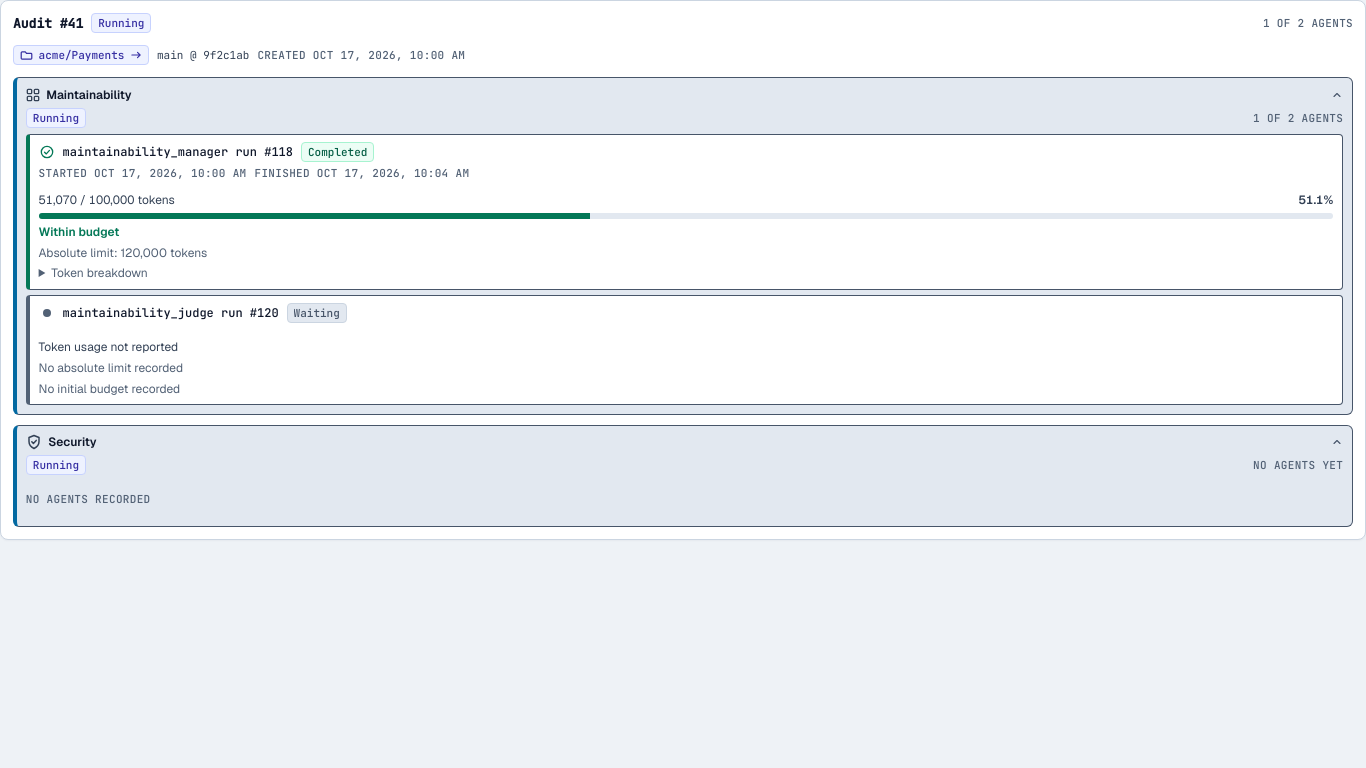
Scenario: AuditStatusView › uses the previous agent menu's budget bar and expandable token breakdown
Expected: the text "51,070 / 100,000 tokens" is shown, [39,192,175,208]
Expected: the text "51.1%" is shown, [1298,192,1333,208]
Click the heading "Token breakdown" at [100, 273], box [51,265,148,281]
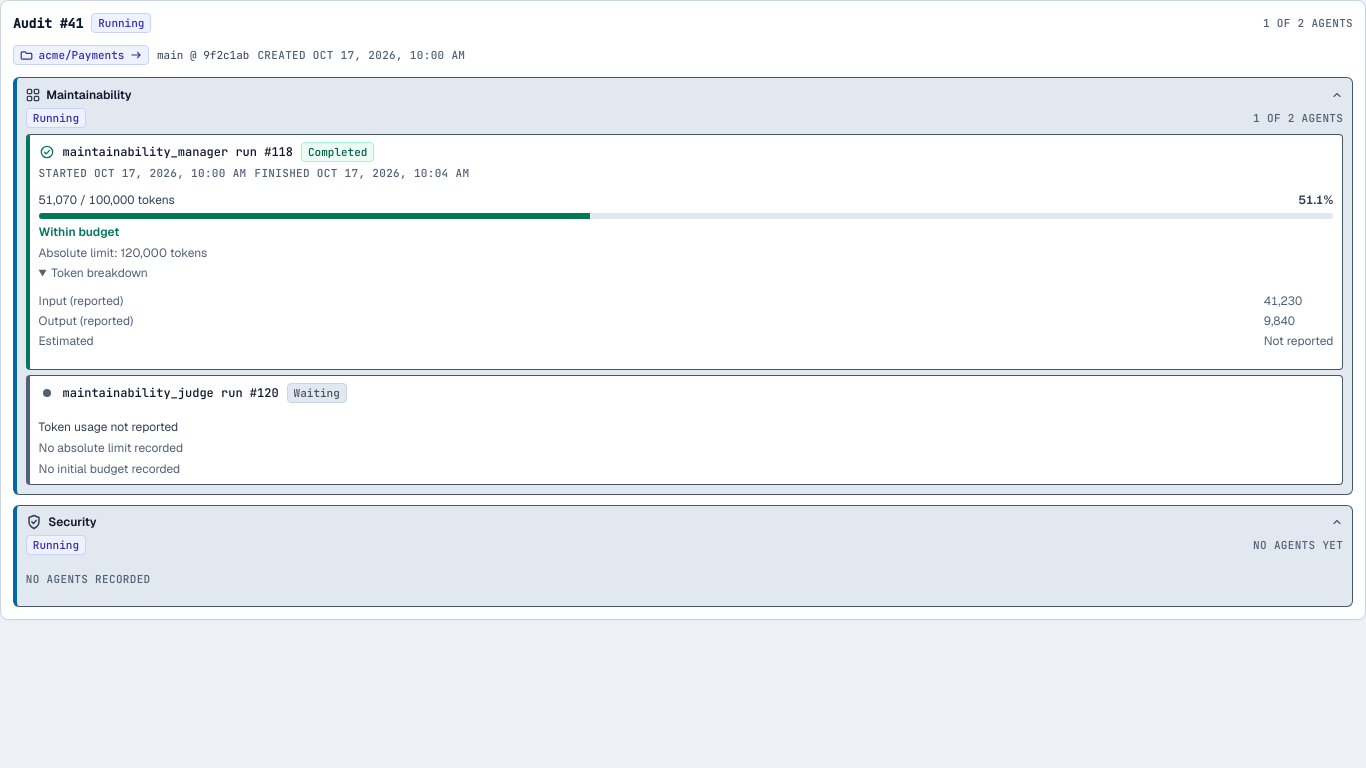
Result: the text "41,230" is shown at [1264,293,1302,309]
Result: the text "9,840" is shown at [1264,313,1295,329]
